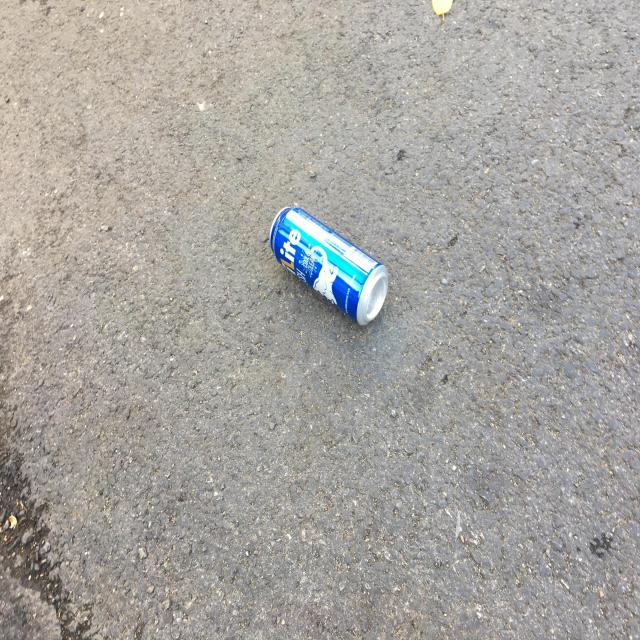can: (269, 206, 388, 325)
